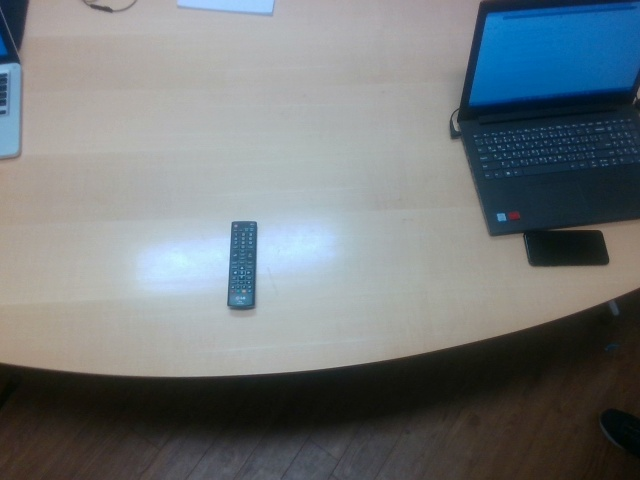remote: (229, 219, 257, 311)
